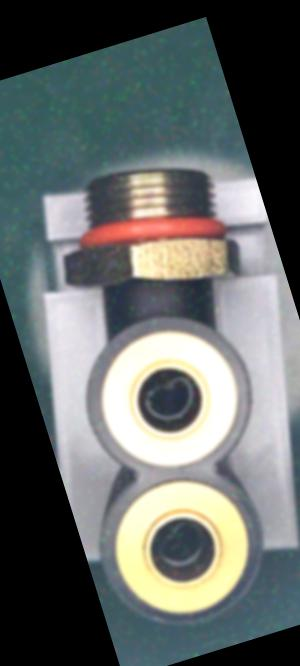joint line: (149, 275, 166, 312)
off-centered: (127, 357, 205, 434), (136, 512, 219, 581)
